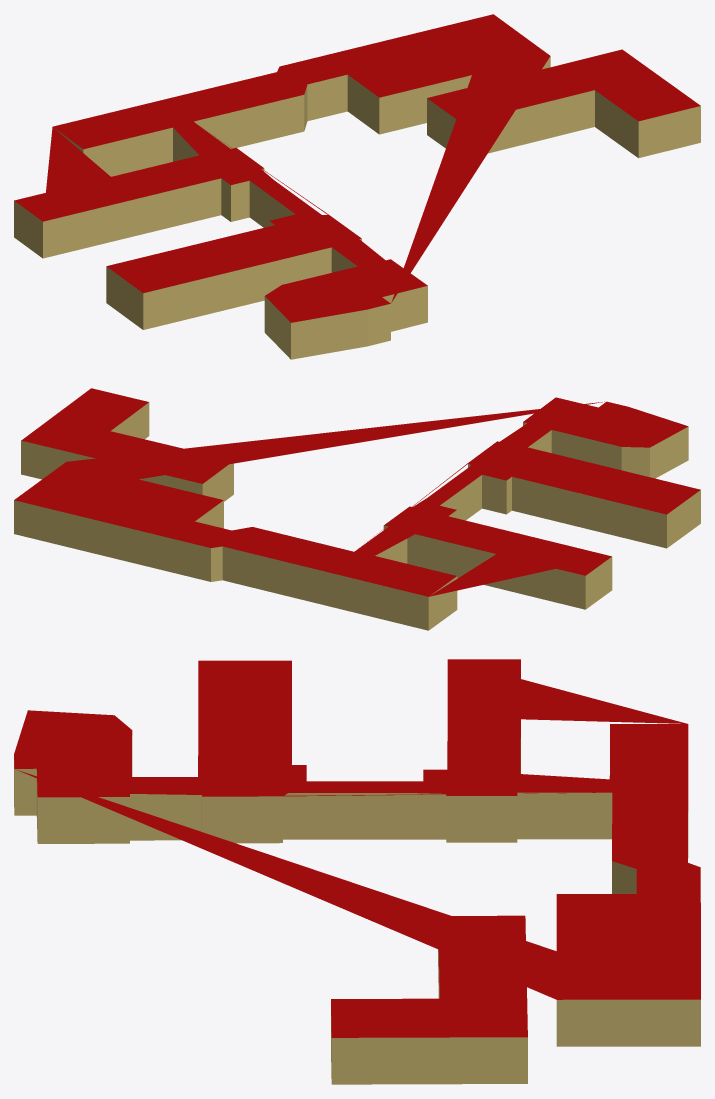
The picture shows the model from 3 angles, top to bottom: view 1: azimuth 30°, elevation 25°; view 2: azimuth 150°, elevation 25°; view 3: azimuth 270°, elevation 25°; orthographic projection. The views are drawn at different scales.
Bounding box in the file's own units: 130 × 7.5 × 99.97.
